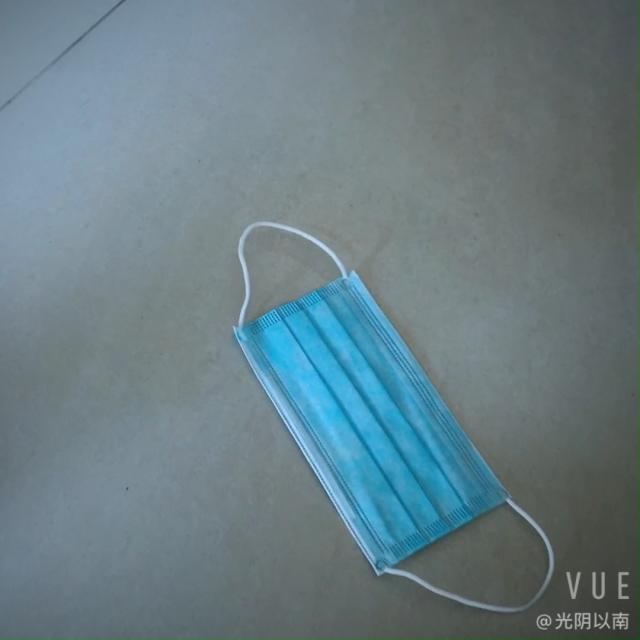non-organic waste: (208, 271, 521, 566)
